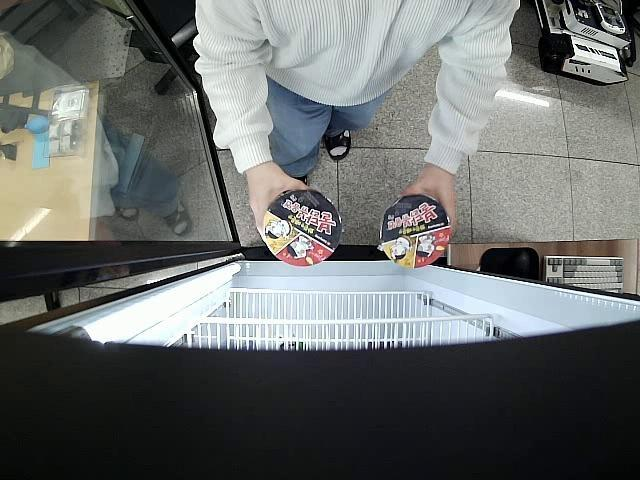07_buldak_L: (264, 187, 344, 266), (379, 194, 452, 267)
